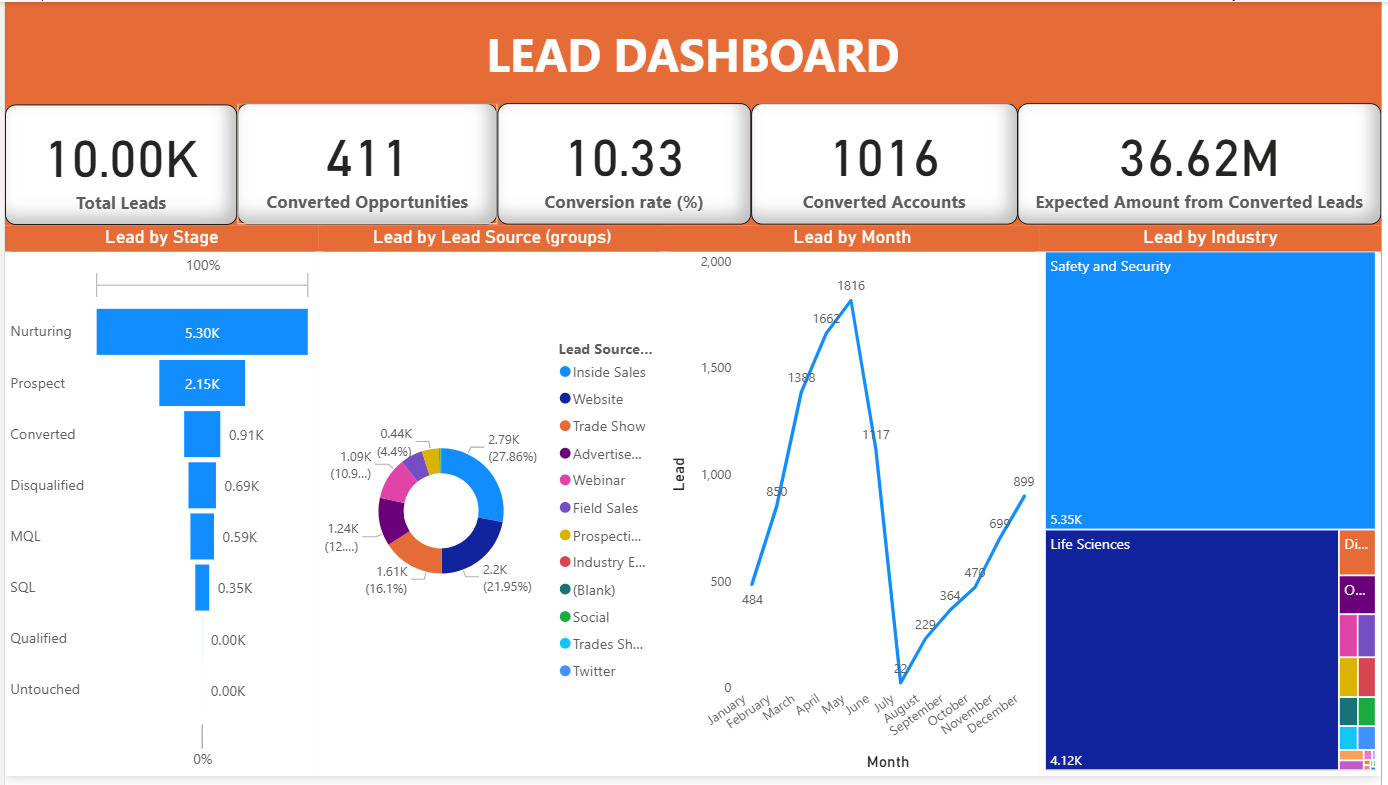

The page's visual inventory and layout, read from the dashboard file:
{"tool":"powerbi","page":{"name":"Lead Dashboard","canvas":[1280,720],"ordinal":1},"visuals":[{"type":"card","fields":{"Values":["CountNonNull(Lead.Total Leads)"]},"box":[0,95.3,216.3,111.6],"z":0},{"type":"card","fields":{"Values":["CountNonNull(Lead.Converted Account ID)"]},"box":[694.2,94.2,247.7,112.8],"z":1000},{"type":"card","fields":{"Values":["CountNonNull(Lead.Converted Opportunity ID)"]},"box":[216.3,94.2,241.9,112.8],"z":2000},{"type":"donutChart","fields":{"Y":["CountNonNull(Lead.Lead ID)"],"Category":["Lead.Lead Source (groups)"]},"box":[291.9,208.1,322.1,511.6],"z":3000},{"type":"funnel","fields":{"Category":["Lead.Status"],"Y":["Count(Lead.Lead ID)"]},"box":[0,208.1,291.9,511.6],"z":4000},{"type":"treemap","fields":{"Group":["Lead.Industry"],"Values":["CountNonNull(Lead.Lead Source)"]},"box":[962.8,208.1,317.4,511.6],"z":5000},{"type":"textbox","box":[0,14.4,1279.7,80.8],"z":6000},{"type":"card","fields":{"Values":["Lead.Lead Conversion rate (%)"]},"box":[458.1,94.2,236,112.8],"z":7000},{"type":"card","fields":{"Values":["Lead.Expected Amount from Converted Leads"]},"box":[941.9,94.2,338.4,112.8],"z":8000},{"type":"lineChart","fields":{"Category":["Lead.Created Date.Variation.Date Hierarchy.Month"],"Y":["CountNonNull(Lead.Lead ID)"]},"box":[614,208.1,348.8,511.6],"z":9000}]}

Visuals, with their boxes in screenshot pixels (x1, y1, x2, y2), scaled from the page's 1280x720 canvas onto the 1388x785 screenshot:
card - CountNonNull(Lead.Total Leads): detection(0, 104, 235, 226)
card - CountNonNull(Lead.Converted Account ID): detection(753, 103, 1021, 226)
card - CountNonNull(Lead.Converted Opportunity ID): detection(235, 103, 497, 226)
donutChart - CountNonNull(Lead.Lead ID) x Lead.Lead Source (groups): detection(317, 227, 666, 784)
funnel - Lead.Status x Count(Lead.Lead ID): detection(0, 227, 317, 784)
treemap - Lead.Industry x CountNonNull(Lead.Lead Source): detection(1044, 227, 1387, 784)
textbox: detection(0, 16, 1387, 104)
card - Lead.Lead Conversion rate (%): detection(497, 103, 753, 226)
card - Lead.Expected Amount from Converted Leads: detection(1021, 103, 1387, 226)
lineChart - Lead.Created Date.Variation.Date Hierarchy.Month x CountNonNull(Lead.Lead ID): detection(666, 227, 1044, 784)
